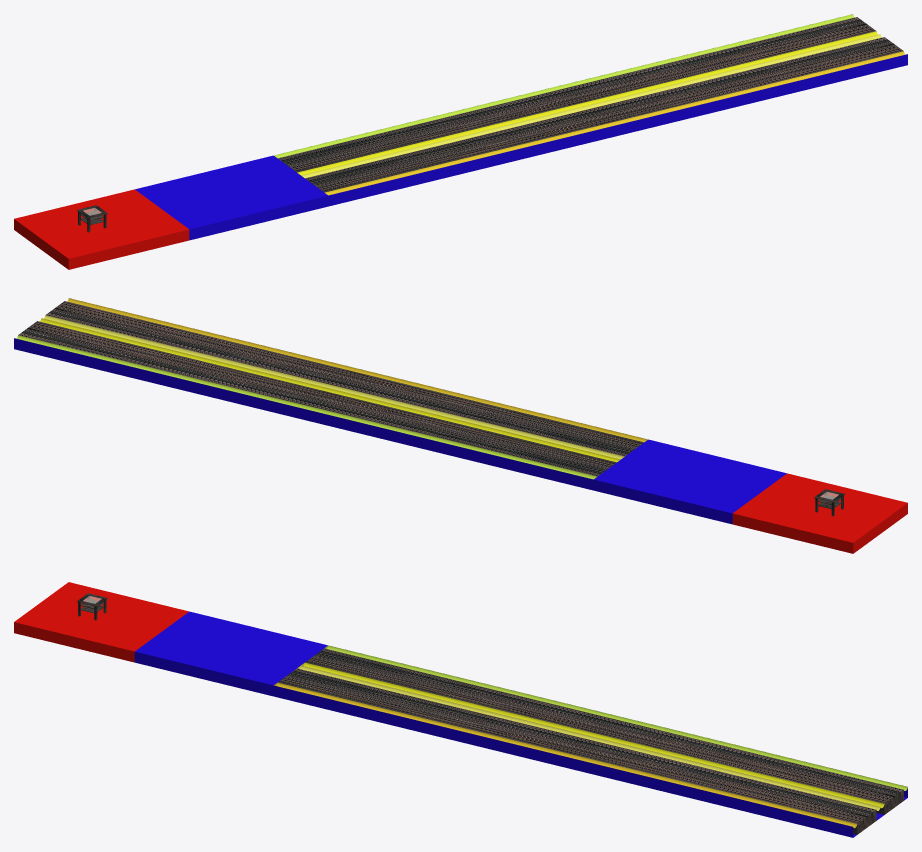
The model's file is alley.fbx.
The picture shows the model from 3 angles, top to bottom: view 1: azimuth 30°, elevation 25°; view 2: azimuth 150°, elevation 25°; view 3: azimuth 330°, elevation 25°; orthographic projection.
Visible parts, largest first — view 1: Cube, Cube.002, Cube.001, Cube.003, Cylinder.002, Cylinder, Cylinder.003, Cylinder.001; view 2: Cube, Cube.002, Cube.001, Cube.003, Cylinder, Cylinder.003, Cylinder.002, Cylinder.001; view 3: Cube, Cube.001, Cube.002, Cube.003, Cylinder.002, Cylinder, Cylinder.003, Cylinder.001.
Part boxes in pixels (x1,y1,x2,y2): Cube: [135, 54, 907, 240]; Cube.002: [305, 37, 903, 192]; Cube.001: [278, 17, 876, 172]; Cube.003: [14, 189, 189, 269]; Cylinder.002: [324, 51, 904, 195]; Cylinder: [274, 14, 854, 158]; Cylinder.003: [301, 34, 881, 178]; Cylinder.001: [297, 31, 877, 175]; Cube: [14, 338, 786, 524]; Cube.002: [45, 301, 643, 456]; Cube.001: [18, 321, 616, 476]; Cube.003: [732, 473, 907, 553]; Cylinder: [17, 335, 597, 479]; Cylinder.003: [44, 315, 624, 459]; Cylinder.002: [67, 298, 647, 442]; Cylinder.001: [40, 318, 620, 462]; Cube: [134, 611, 907, 837]; Cube.001: [305, 648, 903, 814]; Cube.002: [278, 668, 876, 834]; Cube.003: [14, 582, 188, 662]; Cylinder.002: [274, 682, 857, 828]; Cylinder: [325, 645, 907, 790]; Cylinder.003: [297, 665, 880, 810]; Cylinder.001: [301, 662, 884, 808].
Bounding box in the file's own units: 2780 × 81.64 × 314.
